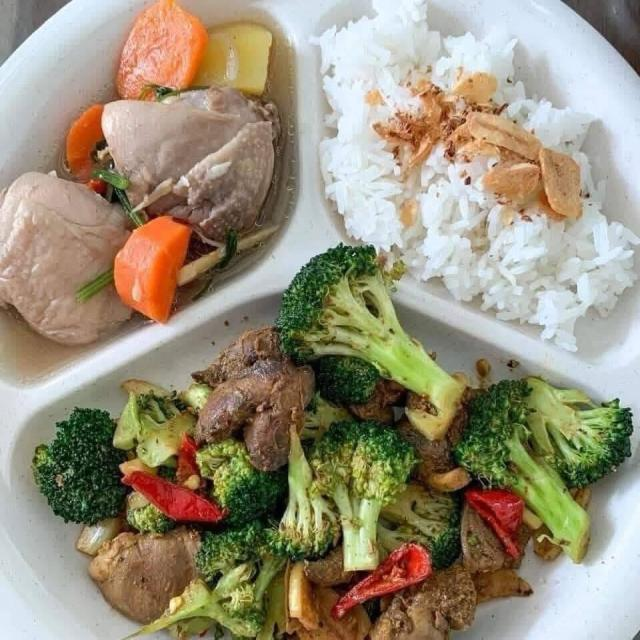Plate: (0, 3, 365, 639)
Rice: (314, 0, 639, 348)
Vegetables: (23, 234, 632, 639), (111, 0, 280, 100), (108, 217, 187, 329)
